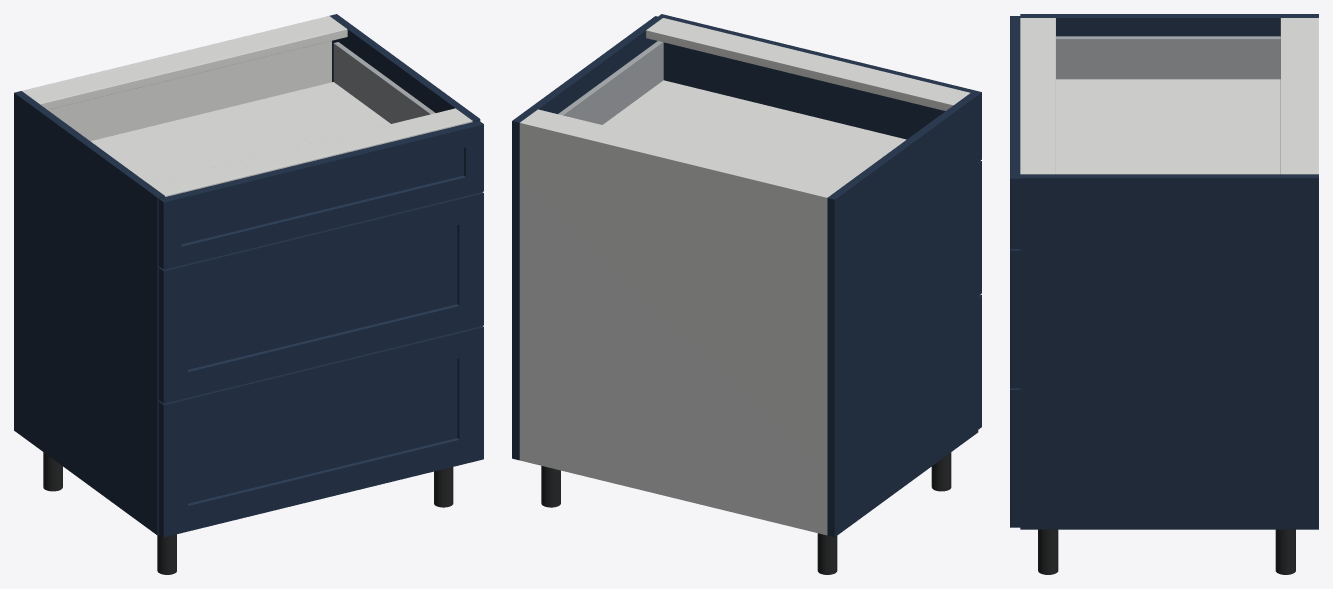
File: oppein-pb-bss-3db30.glb
3 renders of one model, left to right at view 1: azimuth 30°, elevation 25°; view 2: azimuth 150°, elevation 25°; view 3: azimuth 270°, elevation 25°, orthographic. The views are drawn at different scales.
Visible parts, largest first — view 1: Cabinet side, Drawer front, Drawer front.001, Drawer front.002, Drawer floor.002, Cabinet back, Top support rail, Top support rail.001, Drawer side.005, Cabinet side.001, Adjustable foot.001, Adjustable foot.003 (+1 smaller); view 2: Cabinet back, Cabinet side, Drawer floor.002, Drawer front.002, Top support rail.001, Cabinet side.001, Top support rail, Drawer side.005, Adjustable foot, Adjustable foot.002, Cabinet bottom, Adjustable foot.001; view 3: Cabinet side.001, Drawer floor.002, Drawer side.004, Top support rail.001, Cabinet side, Top support rail, Drawer front.002, Drawer front, Drawer front.001, Adjustable foot.003, Adjustable foot.002, Cabinet back.
Boxes of the visible parts, x1,y1,x2,y2 form: Cabinet side: (14, 91, 164, 535); Drawer front: (158, 326, 483, 537); Drawer front.001: (158, 192, 483, 403); Drawer front.002: (158, 120, 483, 269); Drawer floor.002: (90, 82, 390, 183); Cabinet back: (22, 16, 331, 140); Top support rail: (23, 17, 347, 109); Top support rail.001: (148, 108, 472, 196); Drawer side.005: (333, 42, 435, 123); Cabinet side.001: (329, 14, 480, 121); Adjustable foot.001: (157, 534, 176, 574); Adjustable foot.003: (434, 467, 453, 507); Cabinet back: (519, 120, 829, 534); Cabinet side: (827, 93, 978, 537); Drawer floor.002: (603, 80, 906, 184); Drawer front.002: (658, 14, 981, 161); Top support rail.001: (646, 18, 969, 110); Cabinet side.001: (512, 16, 662, 460); Top support rail: (523, 109, 844, 195); Drawer side.005: (558, 41, 663, 124); Adjustable foot: (817, 533, 837, 574); Adjustable foot.002: (541, 466, 560, 507); Cabinet bottom: (519, 456, 826, 535); Adjustable foot.001: (931, 452, 951, 491); Cabinet side.001: (1020, 174, 1318, 529); Drawer floor.002: (1056, 79, 1280, 174); Drawer side.004: (1056, 36, 1280, 79); Top support rail.001: (1020, 18, 1055, 174); Cabinet side: (1020, 14, 1318, 36); Top support rail: (1280, 18, 1315, 174); Drawer front.002: (1010, 16, 1020, 248); Drawer front: (1010, 388, 1020, 527); Drawer front.001: (1010, 249, 1020, 388); Adjustable foot.003: (1038, 529, 1058, 574); Adjustable foot.002: (1275, 529, 1295, 574); Cabinet back: (1313, 18, 1318, 174).
Size of the model in its own units: 0.762 by 0.8763 by 0.6064.
